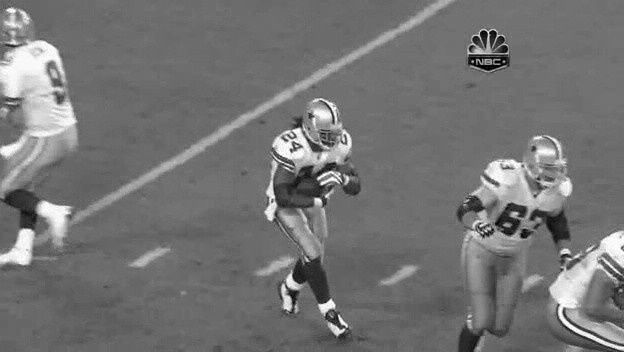person: (304, 97, 342, 146), (303, 97, 341, 146), (305, 97, 343, 146), (304, 96, 342, 145), (304, 98, 342, 147)
target_negative: (490, 44, 564, 323), (297, 306, 545, 328), (568, 159, 609, 269), (549, 182, 621, 215), (213, 323, 600, 326), (520, 75, 521, 176)
